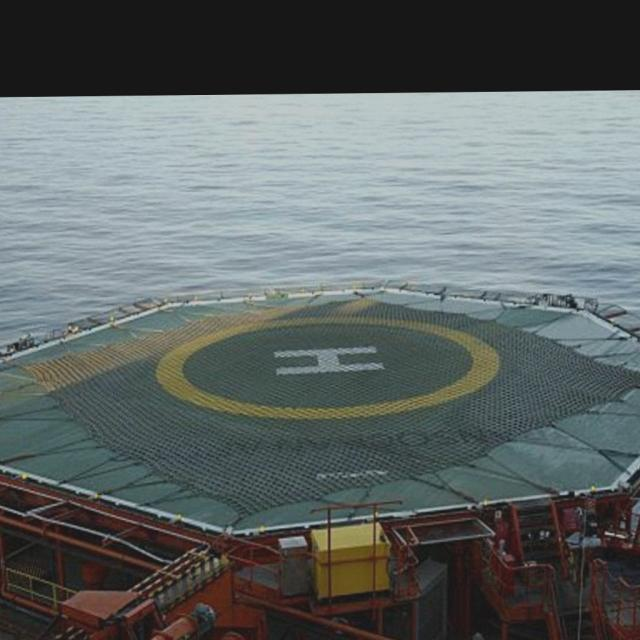helipad: (148, 311, 504, 424)
